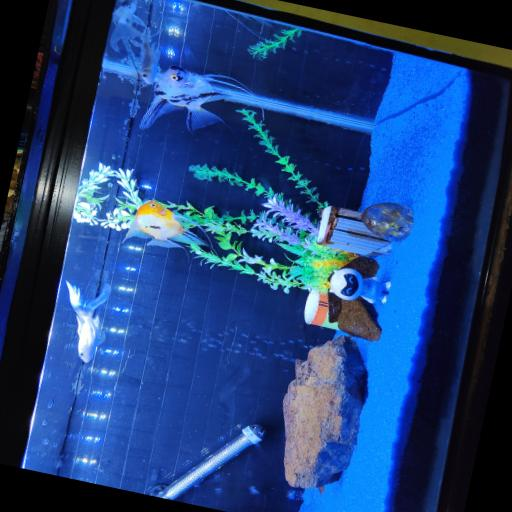Fish: (140, 67, 252, 132), (123, 200, 209, 248), (67, 282, 111, 363), (110, 0, 146, 52), (140, 37, 160, 84)
